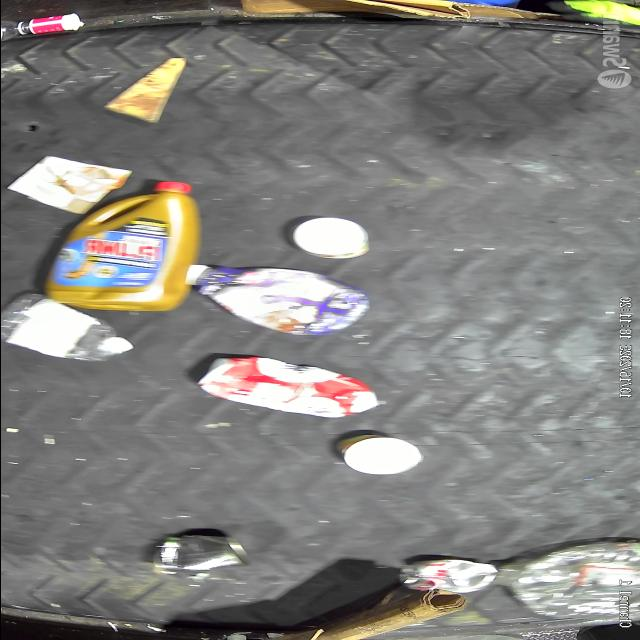can: (160, 532, 252, 571), (408, 560, 494, 596)
non_white_jug: (51, 180, 195, 312), (184, 266, 361, 332), (204, 356, 386, 416)
plastic_bottle: (2, 292, 132, 358)
